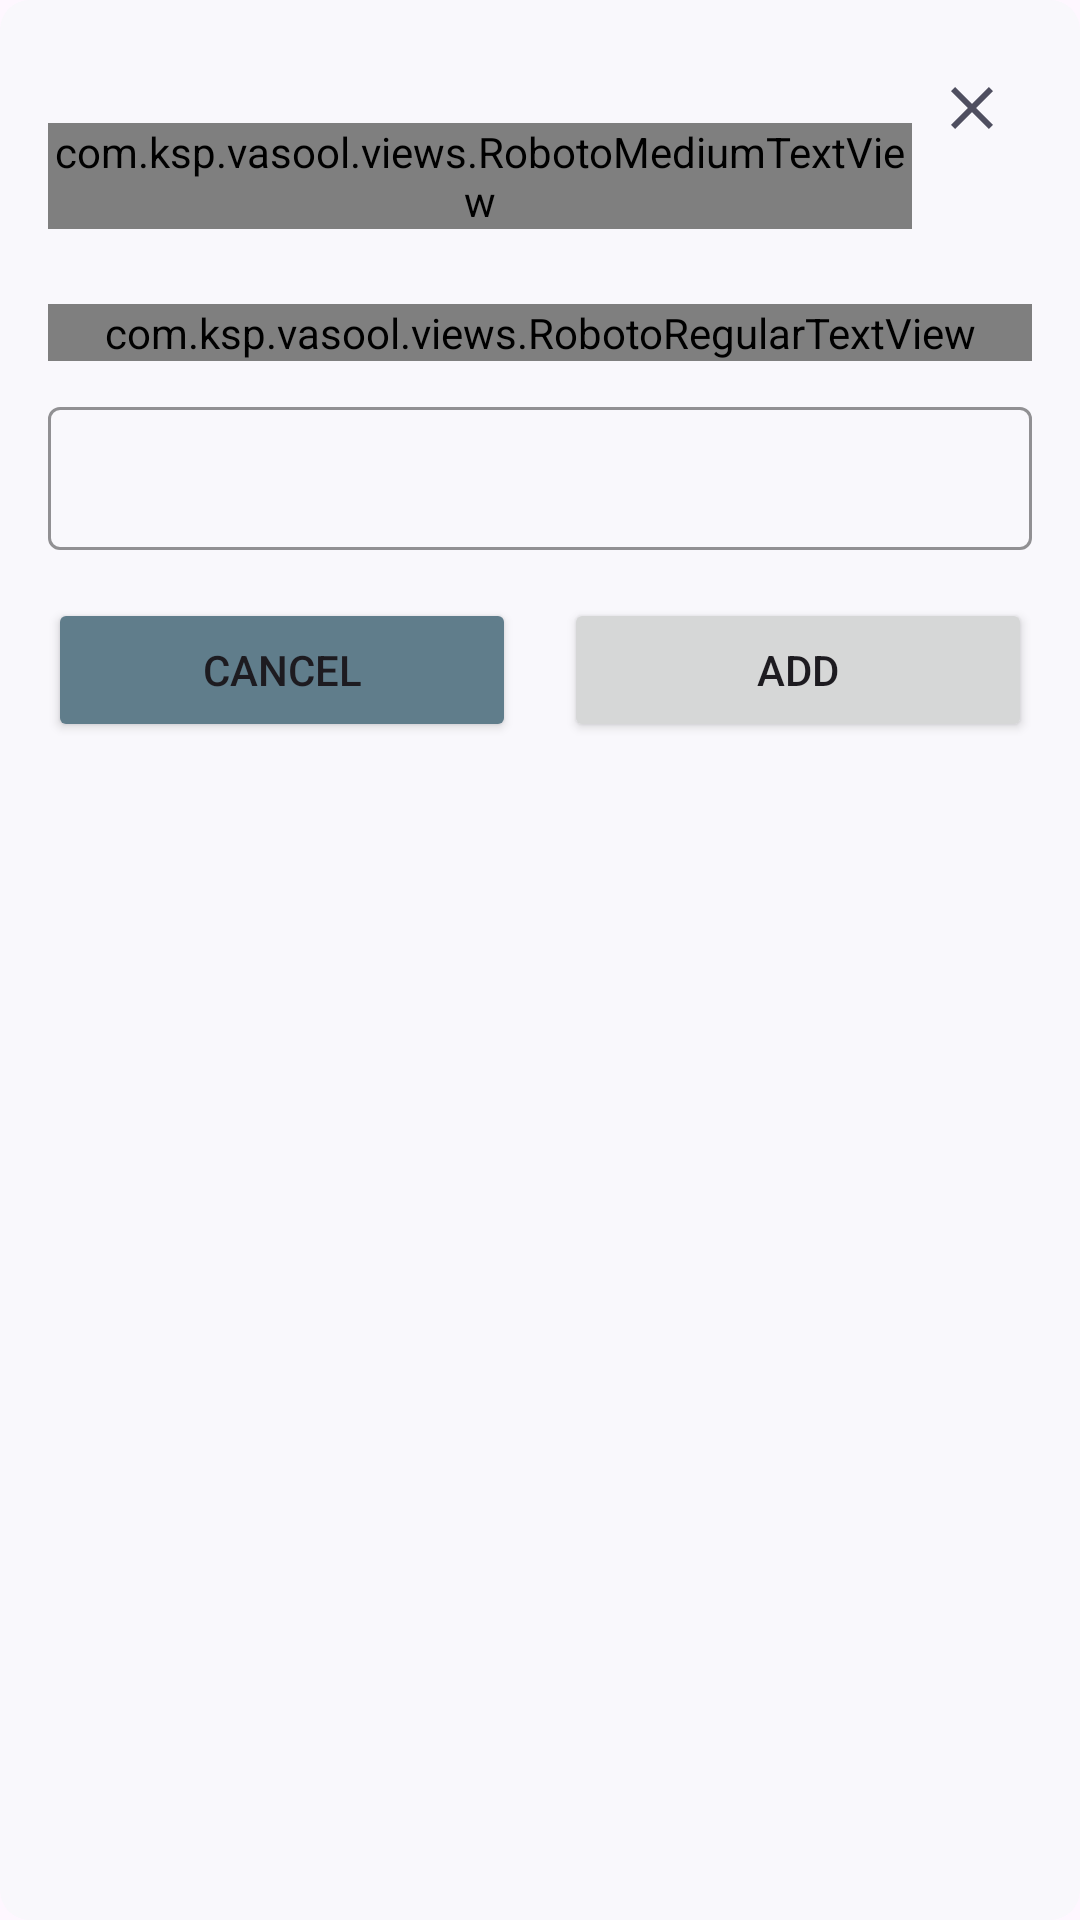

Named icons in this screenshot (1080x1920) and their bounding boxes, (x1, y1, x2, y2):
close: (951, 87, 993, 129)
